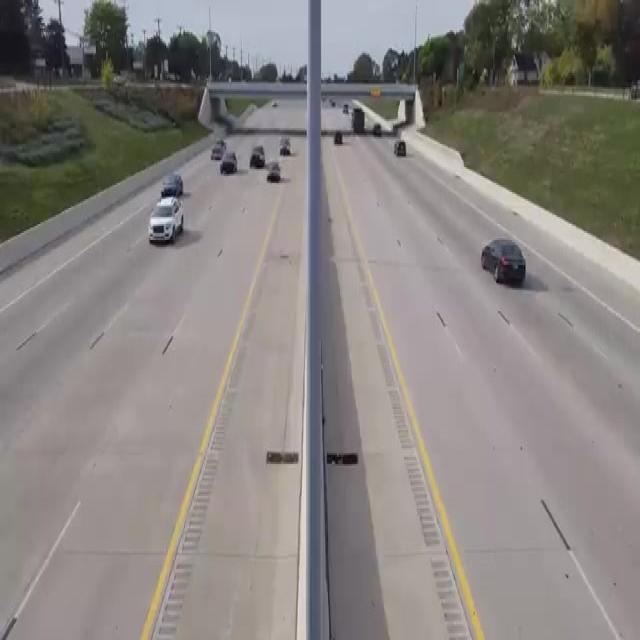car: (475, 233, 536, 295), (144, 192, 194, 255), (221, 148, 243, 184), (158, 174, 191, 196), (250, 136, 268, 172), (264, 156, 286, 184), (391, 130, 411, 160), (214, 130, 227, 167), (328, 124, 346, 148), (276, 130, 294, 152), (372, 120, 386, 140)
truck: (348, 103, 367, 139)
